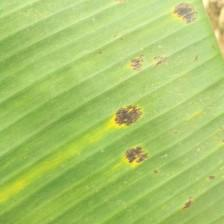pestalotiopsis: (0, 0, 224, 219)
